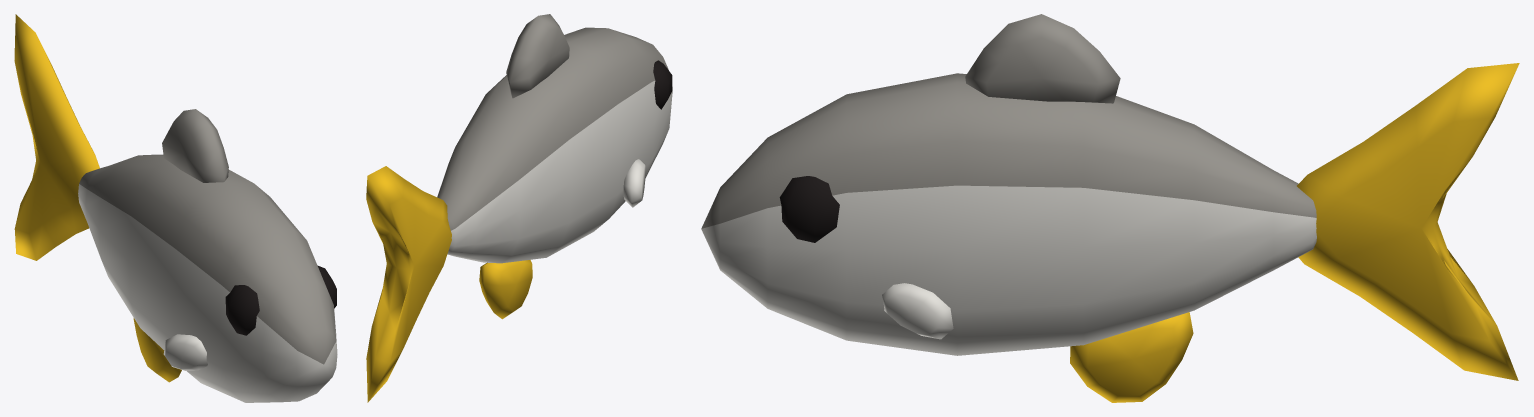
Rendered from fauna_fish_d.glb.
3 renders of one model, left to right at view 1: azimuth 30°, elevation 25°; view 2: azimuth 150°, elevation 25°; view 3: azimuth 270°, elevation 25°, orthographic. The views are drawn at different scales.
Parts seen in each view (by area): view 1: body, tail; view 2: body, tail; view 3: body, tail.
Part boxes in pixels (x1=…): body: x1=78, y1=109, x2=337, y2=402; tail: x1=14, y1=14, x2=99, y2=260; body: x1=437, y1=14, x2=672, y2=319; tail: x1=366, y1=166, x2=451, y2=402; body: x1=701, y1=14, x2=1316, y2=402; tail: x1=1297, y1=63, x2=1519, y2=380.
Bounding box in the file's own units: 0.1349 × 0.2715 × 0.5177.
